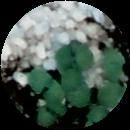Basil: (58, 70, 88, 105), (92, 83, 120, 118), (52, 45, 94, 66), (30, 71, 57, 98), (39, 98, 66, 125), (103, 53, 120, 79)
